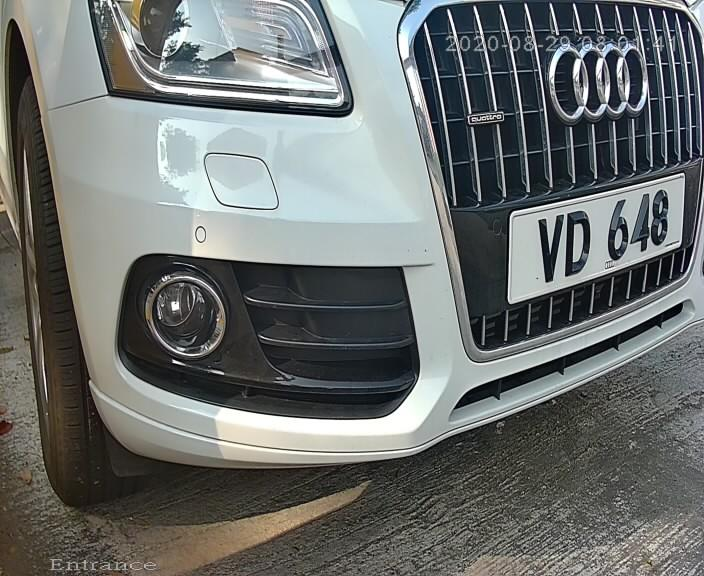License Plate: (478, 142, 704, 325)
